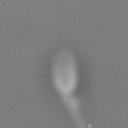abnormal: (54, 93, 86, 128)
